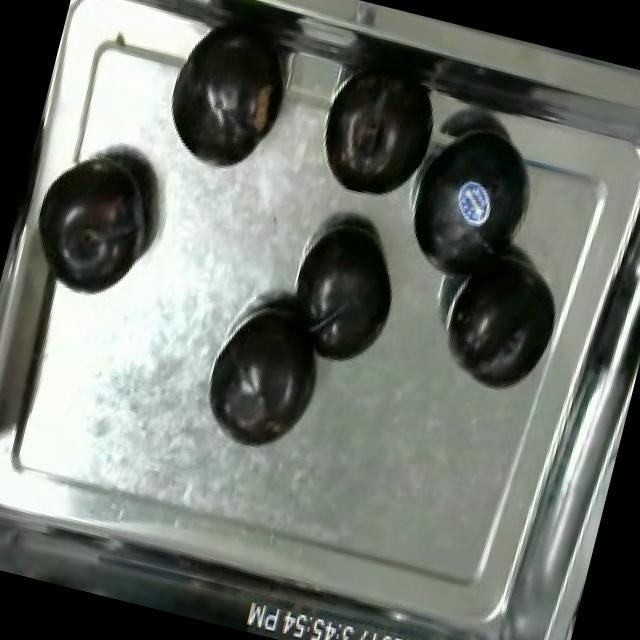Fruit: (388, 110, 548, 302), (147, 8, 306, 190), (192, 287, 338, 464), (21, 132, 170, 305), (276, 206, 418, 384), (429, 238, 576, 406), (298, 54, 446, 220)
